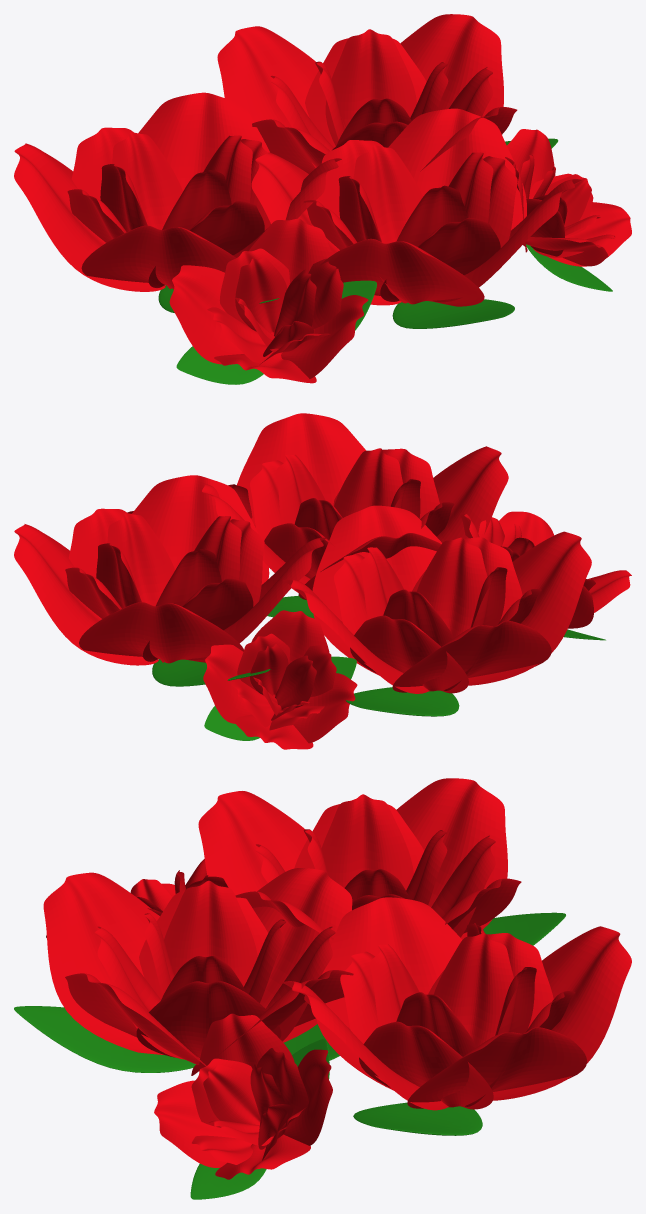
Rendered from rose bucket.fbx.
The picture shows the model from 3 angles, top to bottom: view 1: azimuth 30°, elevation 25°; view 2: azimuth 150°, elevation 25°; view 3: azimuth 270°, elevation 25°; orthographic projection. The views are drawn at different scales.
Visible parts, largest first — view 1: Plane.000; view 2: Plane.000; view 3: Plane.000.
Boxes of the visible parts, left/top/right/bottom form: Plane.000: left=14, top=14, right=631, bottom=384; Plane.000: left=14, top=413, right=631, bottom=749; Plane.000: left=14, top=778, right=631, bottom=1199.
Bounding box in the file's own units: 740 × 227 × 692.
